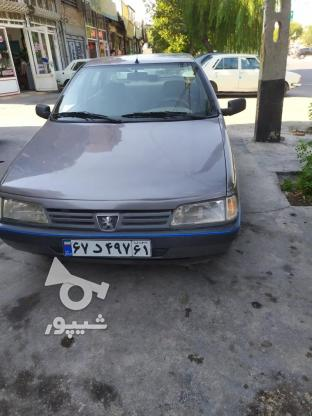car: (62, 237, 153, 259)
